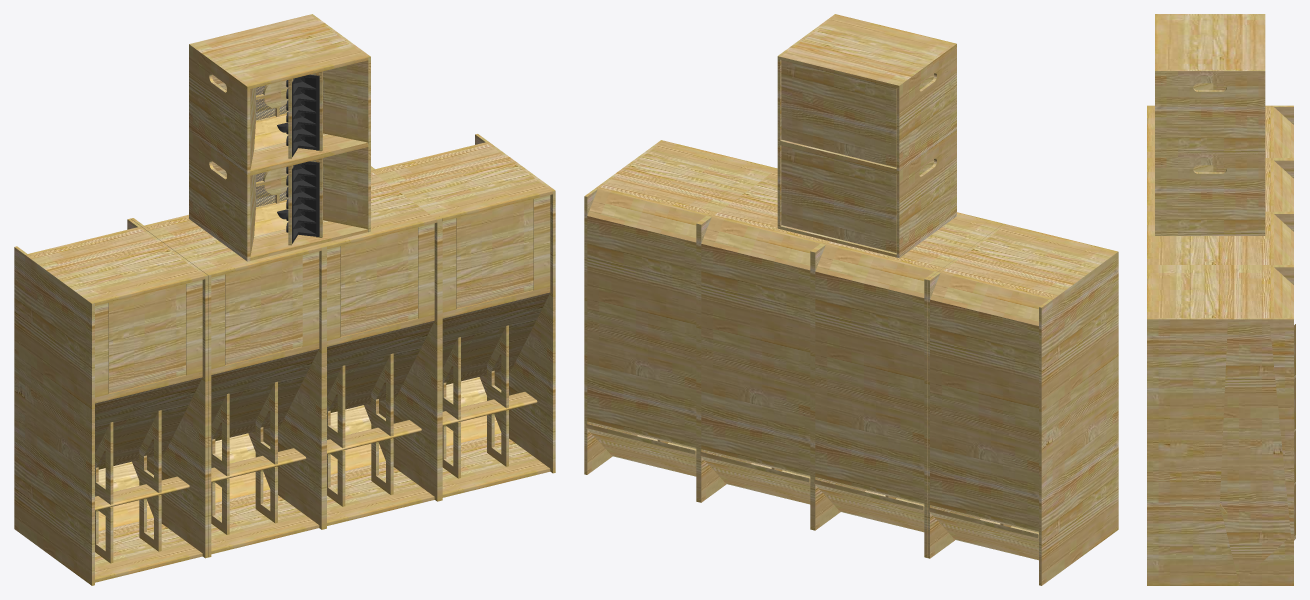
The model's file is system-mb.glb.
The picture shows the model from 3 angles, left to right: view 1: azimuth 30°, elevation 25°; view 2: azimuth 150°, elevation 25°; view 3: azimuth 270°, elevation 25°; orthographic projection. The views are drawn at different scales.
Parts seen in each view (by area): view 1: bin_1, bin_4, bin_2, bin_3, top_2, top_1, horns_1, horns_2; view 2: bin_1, bin_4, bin_2, bin_3, top_2, top_1; view 3: bin_4, top_2, top_1, bin_3, bin_1, bin_2.
Part boxes in pixels (x1,y1,x2,y2): bin_1: [14, 218, 207, 585]; bin_4: [371, 134, 555, 500]; bin_2: [130, 214, 324, 557]; bin_3: [320, 168, 439, 528]; top_2: [189, 14, 370, 174]; top_1: [189, 131, 370, 261]; horns_1: [286, 161, 319, 243]; horns_2: [286, 74, 319, 156]; bin_1: [927, 223, 1118, 585]; bin_4: [584, 140, 774, 501]; bin_2: [812, 212, 1003, 557]; bin_3: [698, 168, 827, 529]; top_2: [777, 14, 956, 171]; top_1: [777, 129, 956, 258]; bin_4: [1147, 266, 1295, 585]; top_2: [1155, 14, 1265, 154]; top_1: [1155, 152, 1265, 235]; bin_3: [1147, 213, 1295, 485]; bin_1: [1147, 105, 1295, 378]; bin_2: [1147, 159, 1295, 431].
Bounding box in the file's own units: 2.1 × 1.98 × 0.617.
3 materials, 2 textured.
